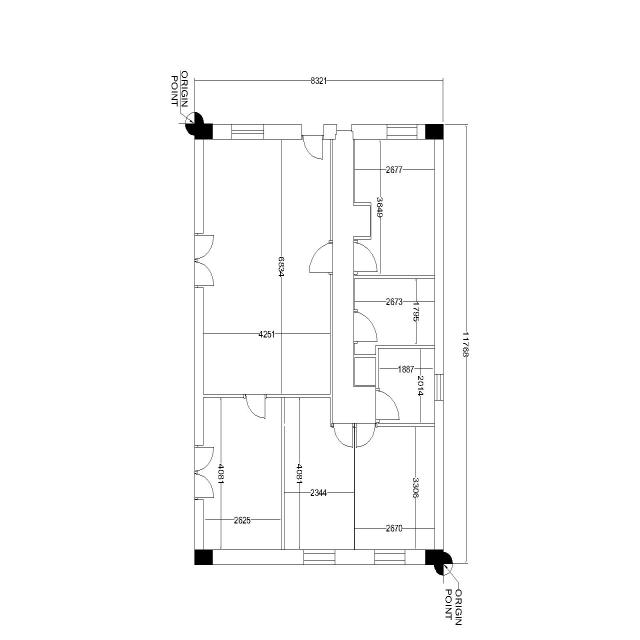Column: (194, 124, 213, 140), (425, 549, 444, 565), (194, 549, 213, 565), (425, 124, 444, 139)
Door: (353, 310, 378, 344), (354, 240, 378, 275), (376, 388, 400, 423), (309, 240, 333, 274), (301, 135, 324, 161), (332, 423, 354, 449), (355, 423, 377, 448), (244, 394, 266, 419)
Double-Door: (194, 233, 214, 288), (194, 445, 214, 500)
Window: (232, 124, 264, 140), (374, 549, 406, 565), (387, 124, 417, 140), (304, 550, 335, 565), (434, 374, 444, 401)
